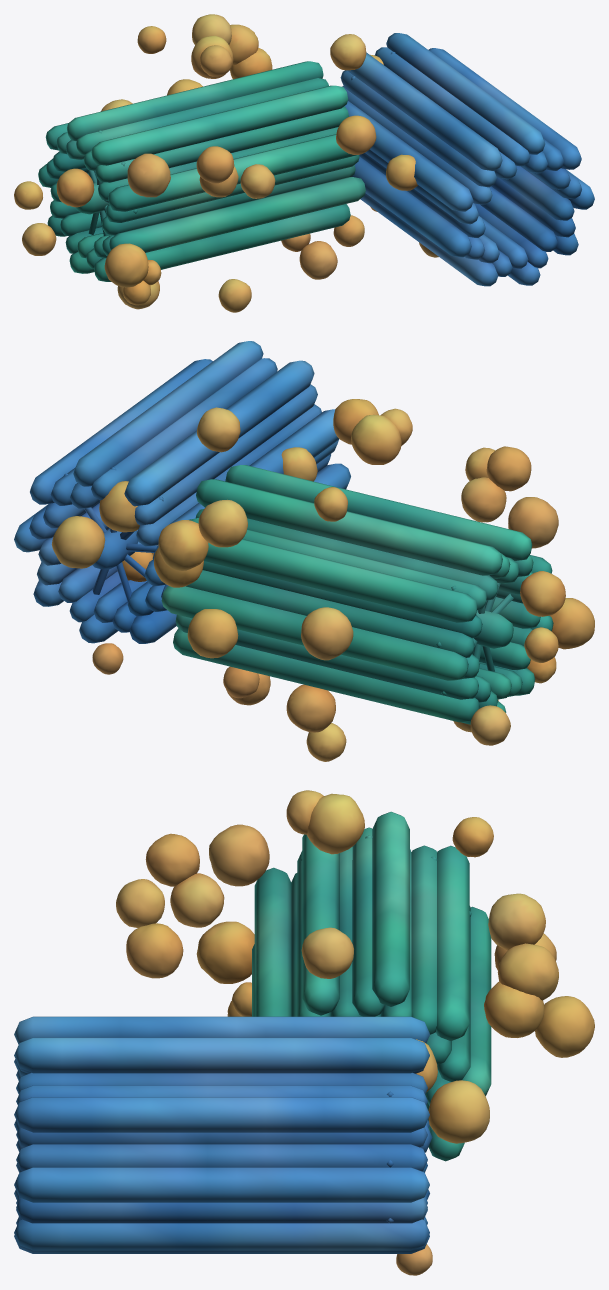
Rendered from centrosome.glb.
3 views of the same model, one above another, from view 1: azimuth 30°, elevation 25°; view 2: azimuth 150°, elevation 25°; view 3: azimuth 270°, elevation 25° (orthographic). The views are drawn at different scales.
Visible parts, largest first — view 1: centrosome-mother, centrosome-daughter, centrosome-pcm; view 2: centrosome-mother, centrosome-daughter, centrosome-pcm; view 3: centrosome-daughter, centrosome-mother, centrosome-pcm.
Boxes of the visible parts, x1,y1,x2,y2 form: centrosome-mother: (38,61,365,281); centrosome-daughter: (340,33,594,286); centrosome-pcm: (14,14,438,312); centrosome-mother: (161,465,553,724); centrosome-daughter: (14,341,350,643); centrosome-pcm: (51,399,594,761); centrosome-daughter: (14,1016,432,1253); centrosome-mother: (252,811,491,1161); centrosome-pcm: (116,790,594,1275).
Size of what is drawn, in the model's own units: 1.75 by 1.07 by 1.38.
